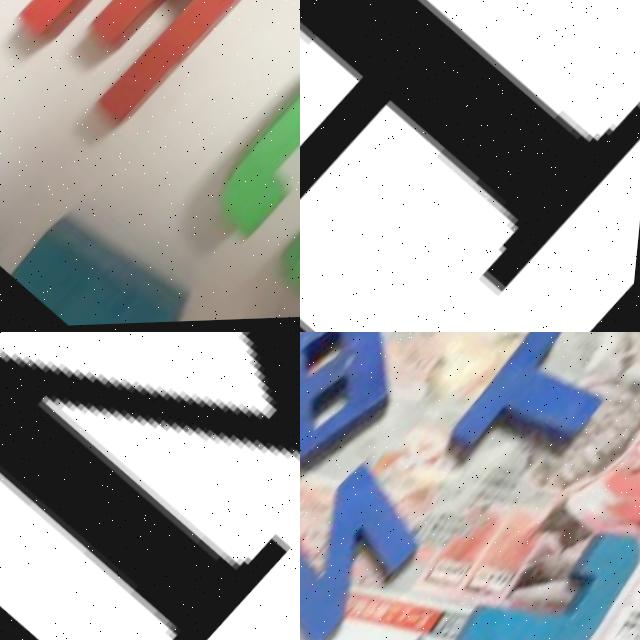B: (300, 332, 434, 486)
C: (194, 27, 300, 322)
E: (0, 0, 294, 142)
H: (300, 0, 640, 295)
J: (448, 496, 640, 640)
M: (0, 332, 300, 640)
N: (300, 460, 447, 640)
T: (423, 332, 625, 518)
